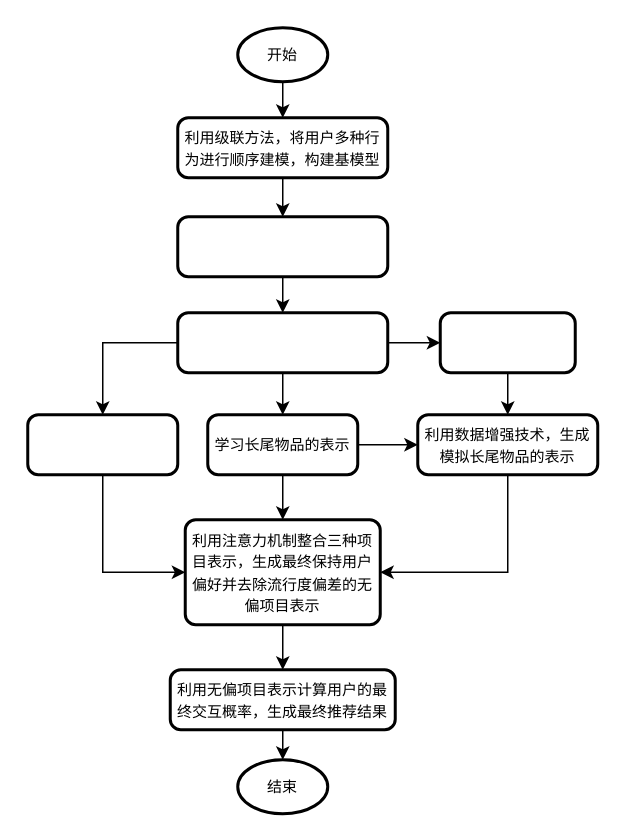
The diagram is 624 pixels wide and 840 high, and some of its shapes have lost their labels. Here are the shapes that lost their labels. From the top down, the centre of each, then its label:
At [282,246]: "对各变量间的因果关系进行分析，构建因果图".
At [282,342]: "利用项目的交互数量，区分流行项目和长尾项目".
At [507,342]: "生成流行度干预权重矩阵".
At [102,444]: "学习流行物品的表示".
